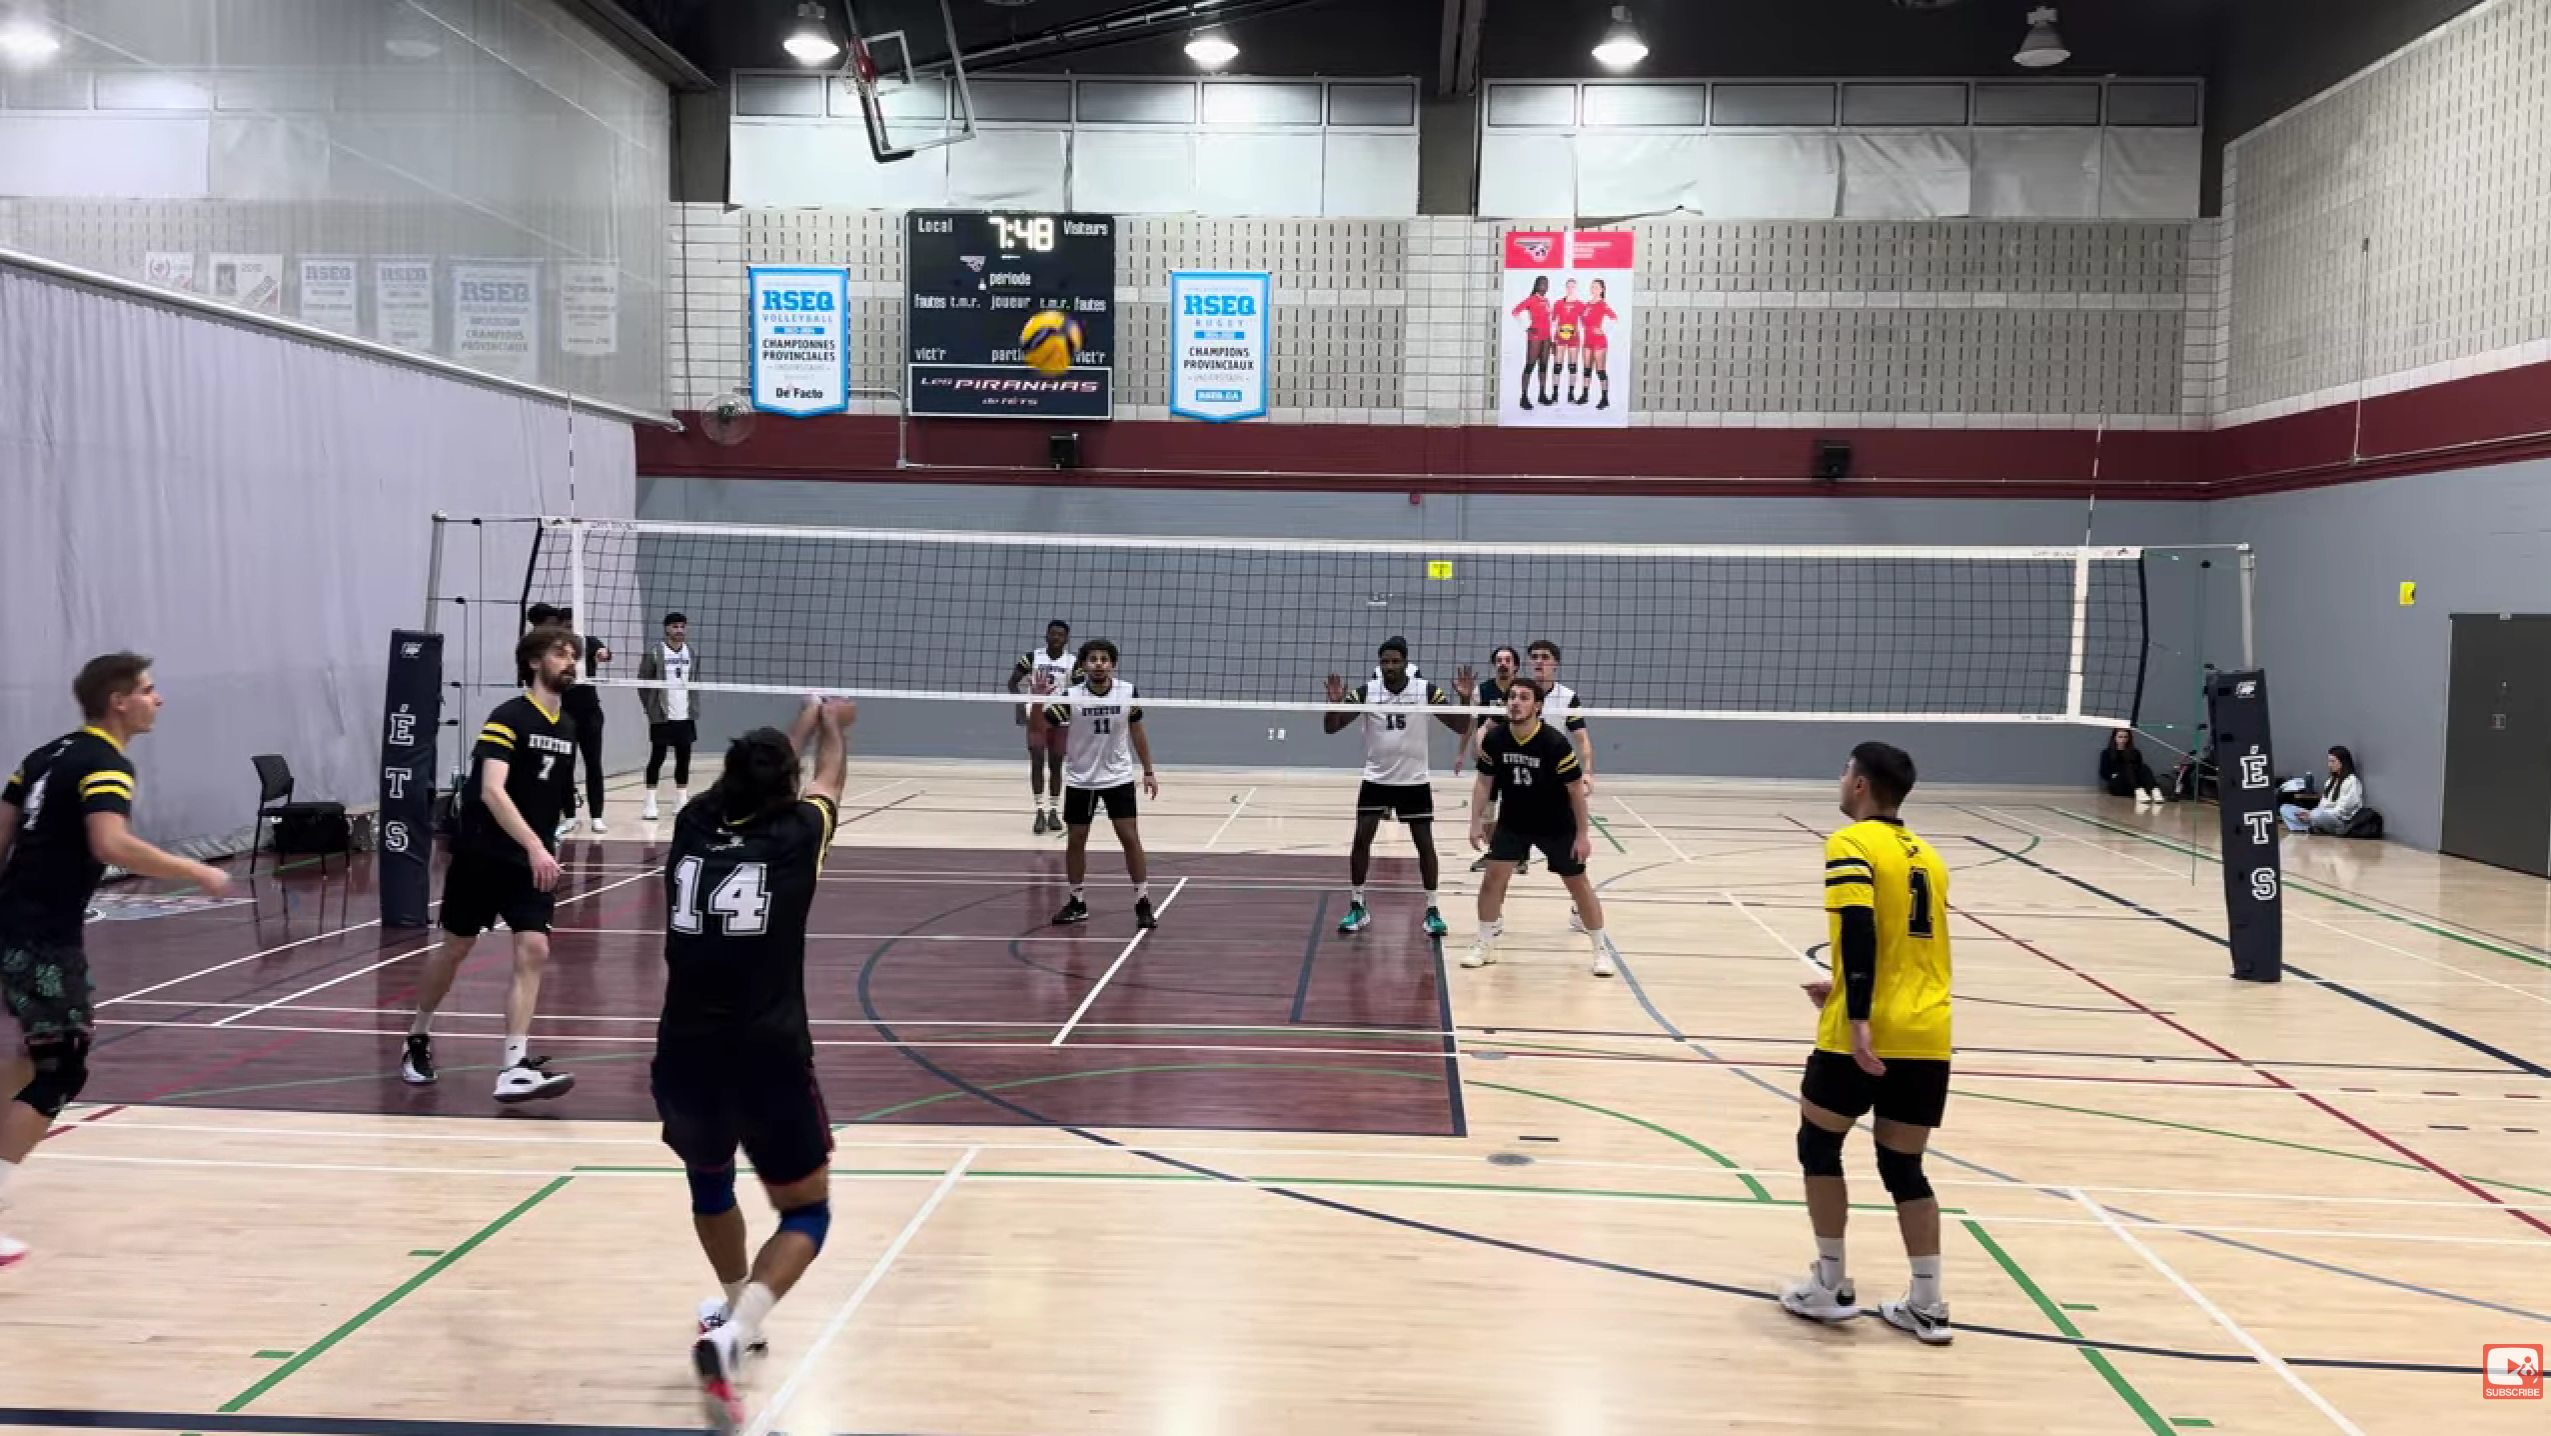Ball: (1014, 305, 1088, 377)
